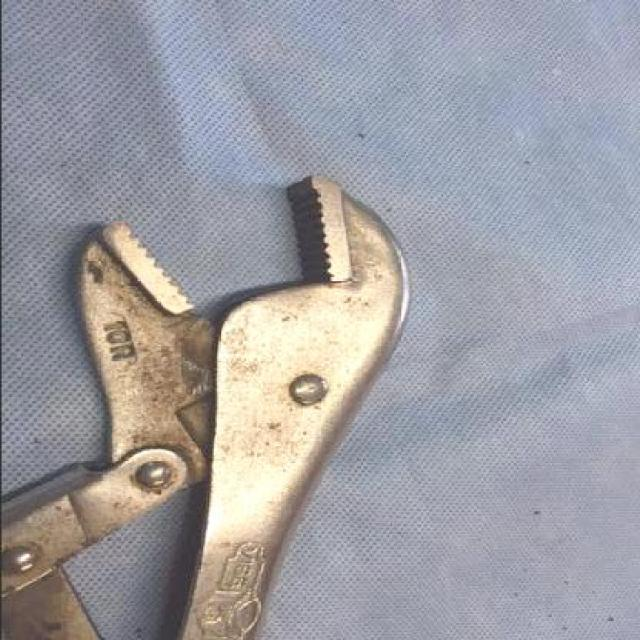pliers: (0, 176, 420, 638)
